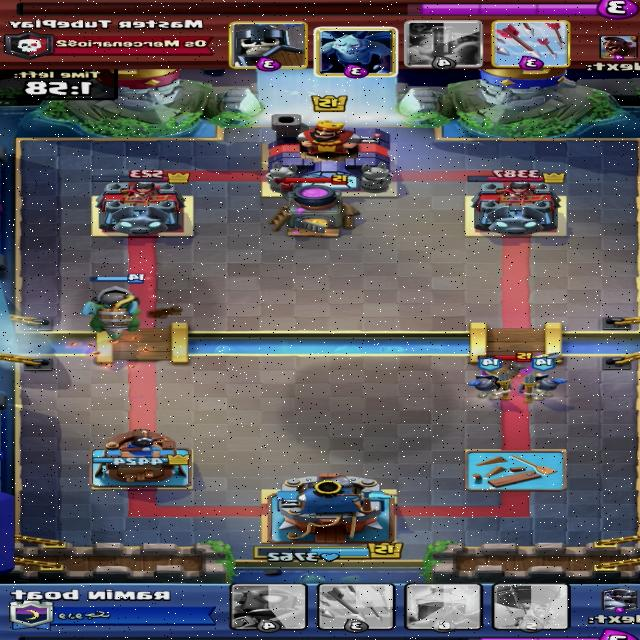Enemy-Furnace: (266, 175, 360, 238)
Enemy-Musketeer: (476, 351, 536, 386)
Player-Guard: (522, 356, 569, 402), (466, 356, 511, 401)
Player-InfernoDragon: (79, 274, 147, 340)
